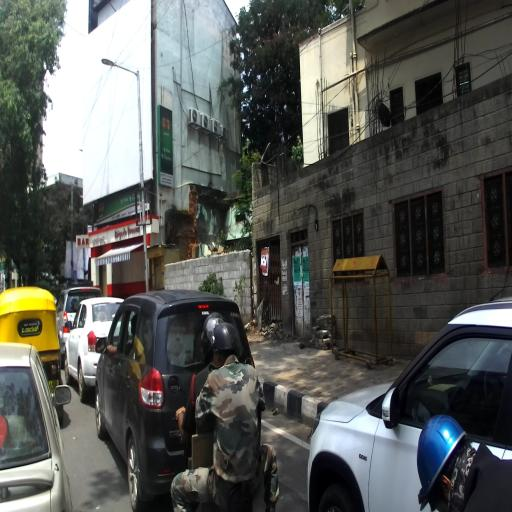street_light_0: (100, 56, 141, 78)
